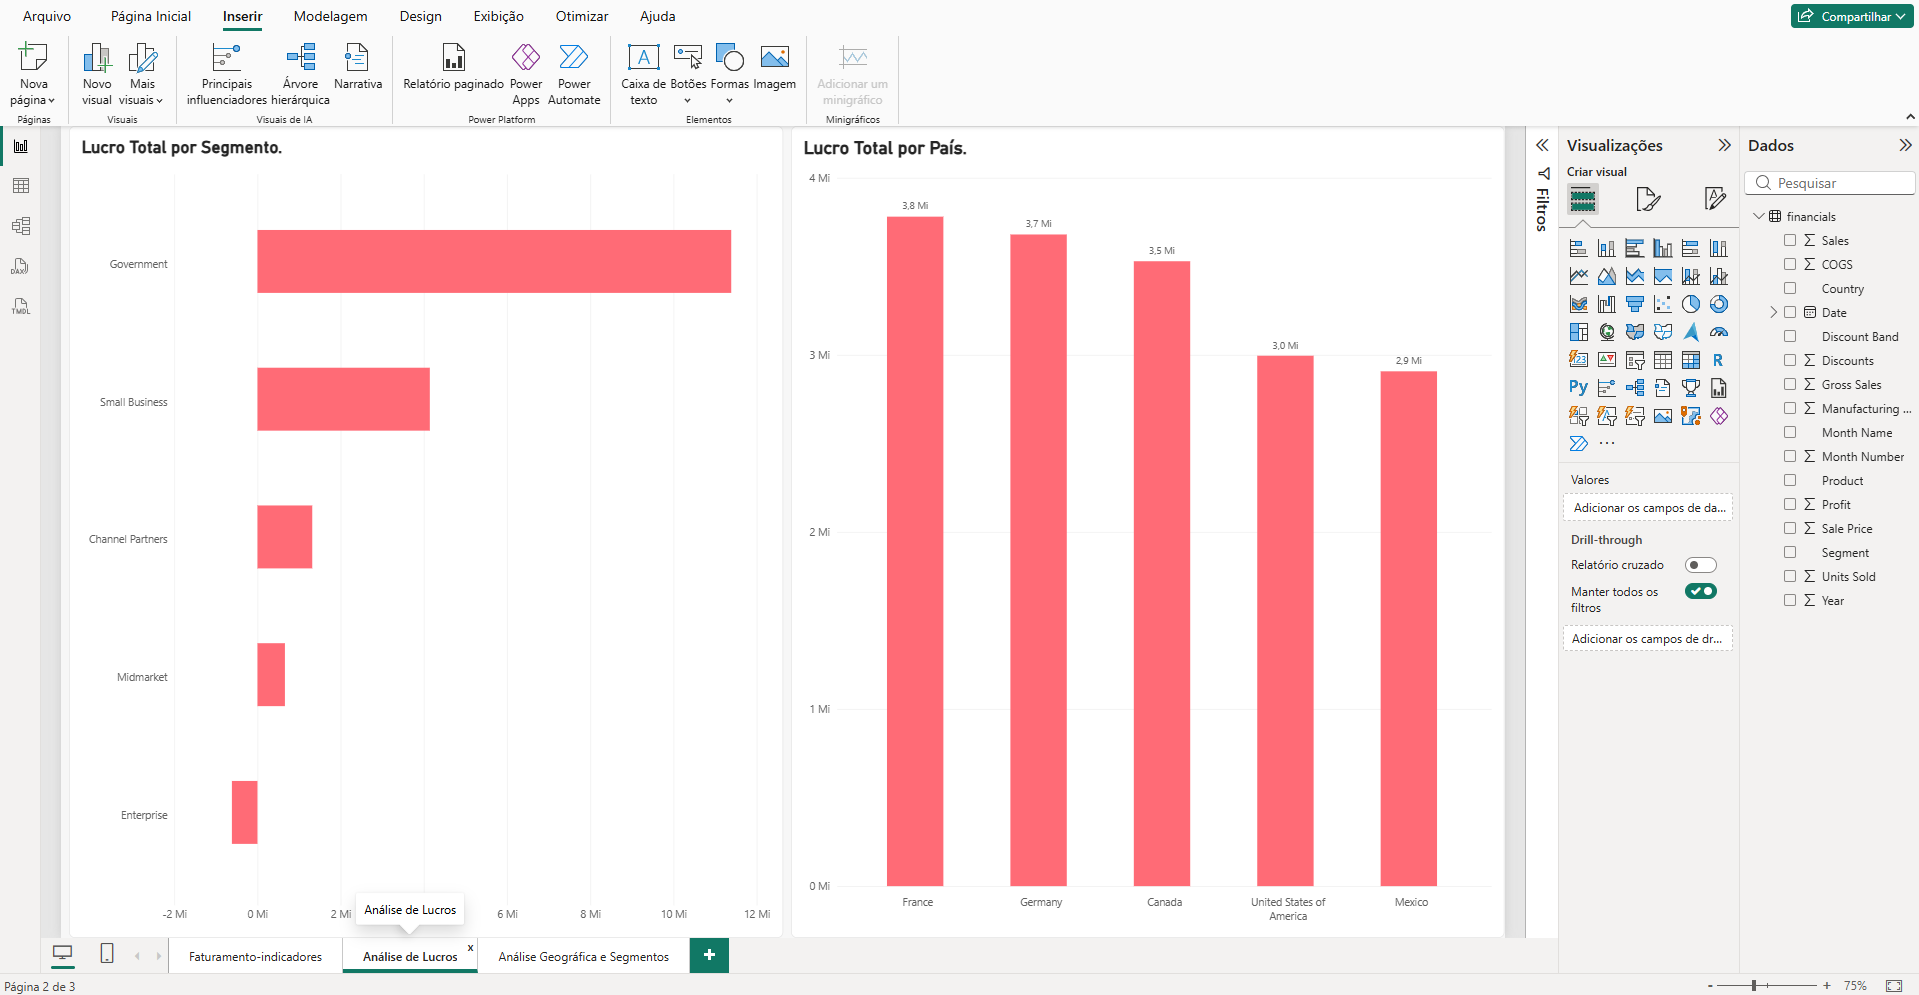

This screenshot's page, from the dashboard's own definition file:
{"tool":"powerbi","page":{"name":"Análise de Lucros","canvas":[1920,1080],"ordinal":1},"visuals":[{"type":"clusteredBarChart","title":"Lucro Total por Segmento.","fields":{"Category":["financials.Segment"],"Y":["Sum(financials.Profit)"]},"box":[10.6,0,949.7,1080],"z":0},{"type":"clusteredColumnChart","title":"Lucro Total por País.","fields":{"Category":["financials.Country"],"Y":["Sum(financials.Profit)"]},"box":[971,0,949,1080],"z":1000}]}

Visuals, with their boxes on the page's 1920x1080 design canvas (x1, y1, x2, y2). These are canvas units, not pixel positions in the 1919x995 screenshot, which may show the page scaled, cropped or inside an application window:
"Lucro Total por Segmento." clusteredBarChart: 11, 0, 960, 1080
"Lucro Total por País." clusteredColumnChart: 971, 0, 1920, 1080
